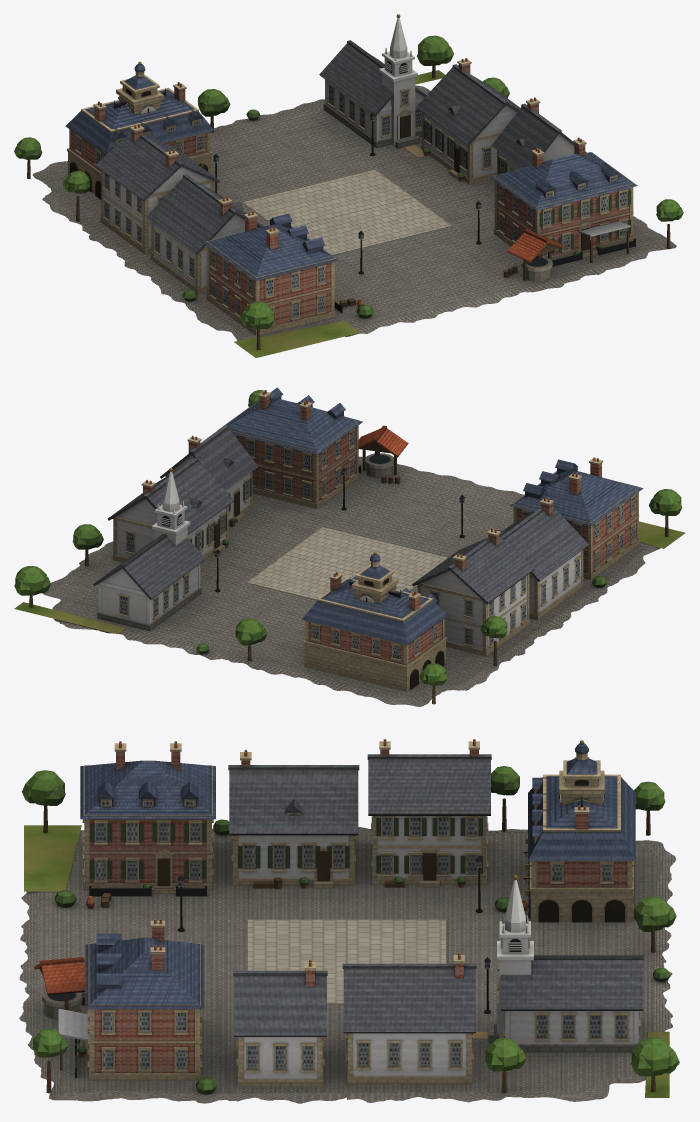
File: gunpowder-town-small-a-colonies.glb
3 views of the same model, one above another, from view 1: azimuth 30°, elevation 25°; view 2: azimuth 150°, elevation 25°; view 3: azimuth 270°, elevation 25° (orthographic). The views are drawn at different scales.
Visible parts, largest first — view 1: LOD0; view 2: LOD0; view 3: LOD0.
Part boxes in pixels (x1=…): LOD0: x1=14, y1=14, x2=683, y2=357; LOD0: x1=14, y1=387, x2=685, y2=706; LOD0: x1=19, y1=739, x2=679, y2=1103.
Size of what is drawn, in the model's own units: 4.02 by 1.1 by 4.06.
Materials: 3 (3 with a texture image).
